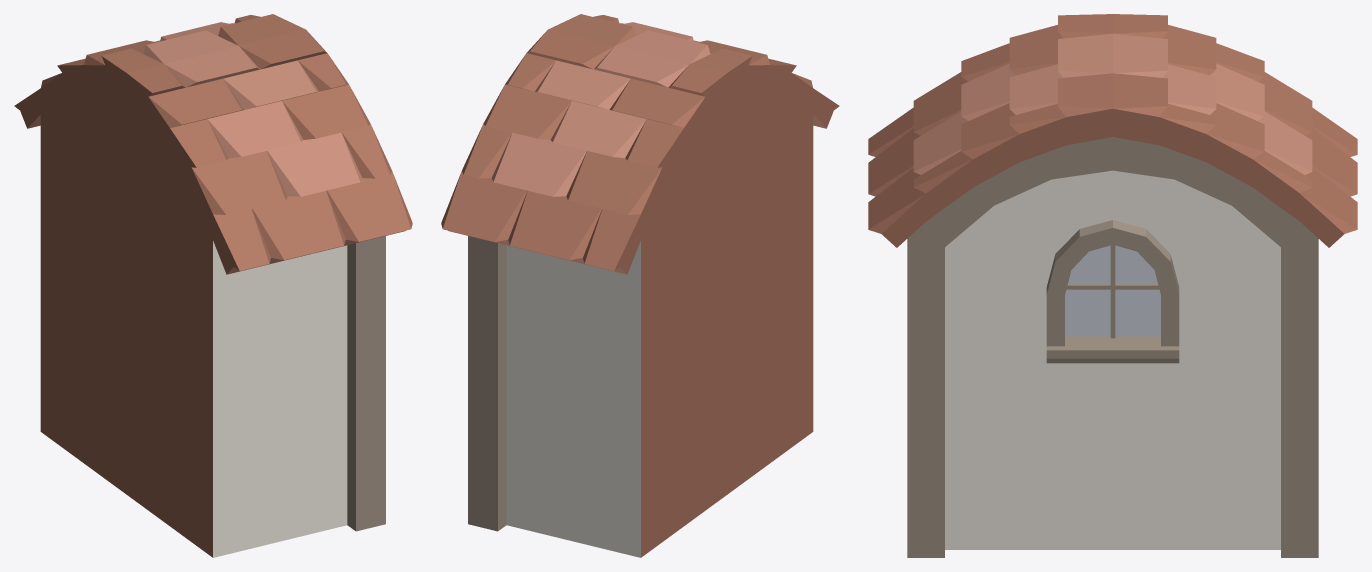
The model's file is Kit_Window_Upper_Convex.glb.
3 views of the same model, side by side, from view 1: azimuth 30°, elevation 25°; view 2: azimuth 150°, elevation 25°; view 3: azimuth 270°, elevation 25° (orthographic). The views are drawn at different scales.
Visible parts, largest first — view 1: object4, object2; view 2: object4, object2; view 3: object4, object2, object3, object1.
Part boxes in pixels (x1=…): object4: x1=14, y1=14, x2=412, y2=557; object2: x1=347, y1=236, x2=385, y2=531; object4: x1=441, y1=14, x2=839, y2=557; object2: x1=468, y1=236, x2=506, y2=531; object4: x1=868, y1=14, x2=1357, y2=549; object2: x1=907, y1=137, x2=1318, y2=557; object3: x1=1046, y1=220, x2=1179, y2=363; object1: x1=1066, y1=245, x2=1159, y2=338.
Bounding box in the file's own units: 1.2 × 2.7 × 2.62.
